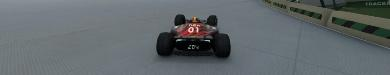Car: (155, 13, 231, 57)
obstacles-Borders: (258, 0, 389, 53)
